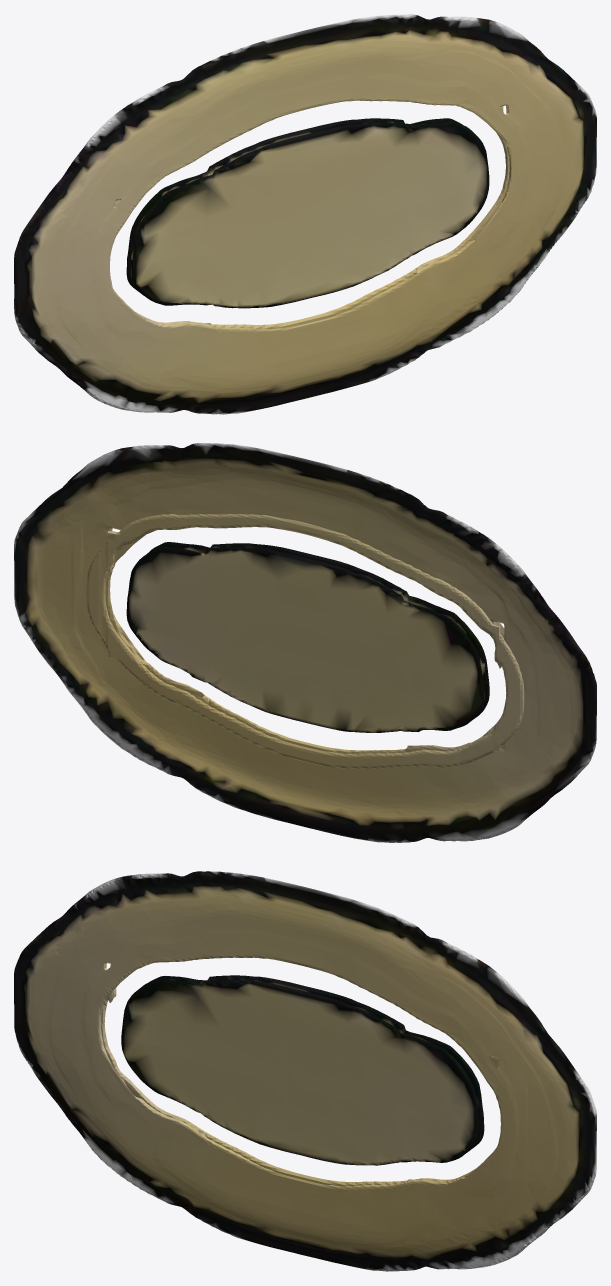
The model's file is platter1_bro.glb.
3 views of the same model, one above another, from view 1: azimuth 30°, elevation 25°; view 2: azimuth 150°, elevation 25°; view 3: azimuth 330°, elevation 25° (orthographic).
Parts seen in each view (by area): view 1: geometry_0; view 2: geometry_0; view 3: geometry_0.
Part boxes in pixels (x1,y1,x2,y2): geometry_0: (14,14,596,414); geometry_0: (14,443,596,842); geometry_0: (14,871,596,1271).
Size of the model in its own units: 0.875 by 0.5282 by 0.0212.
